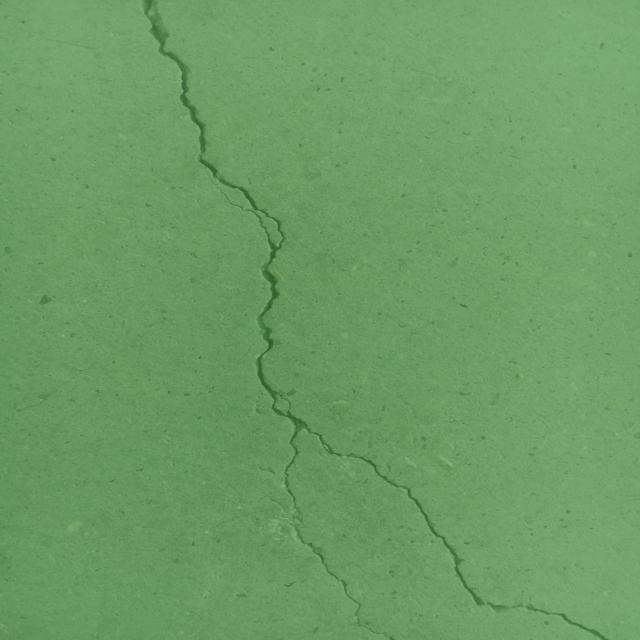crack: (140, 0, 612, 640), (198, 494, 396, 640), (358, 572, 370, 602)
